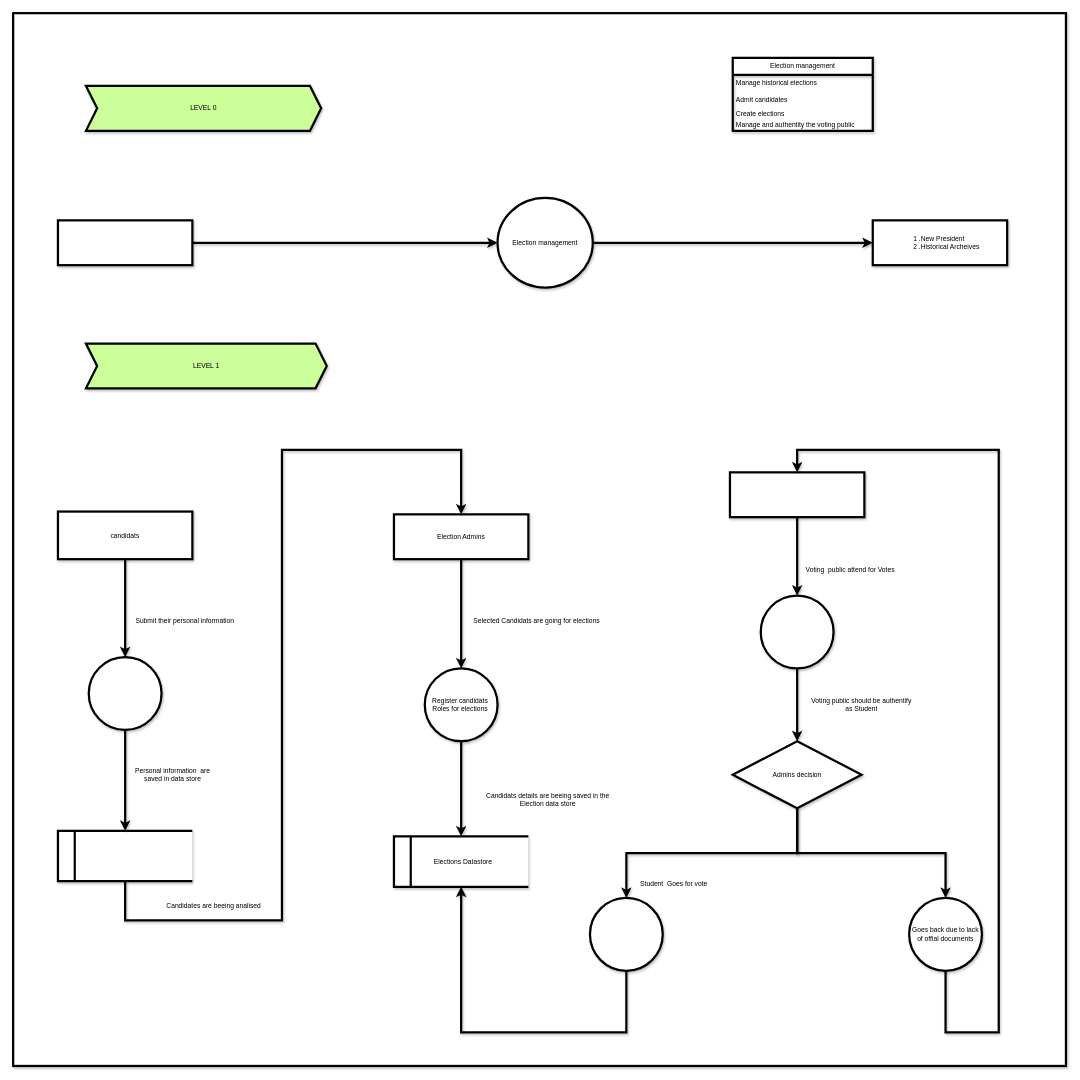
Some shapes in this 1080 by 1080 pixel diagram are drawn without their labels. Here are the shapes that lost their labels. From the top down, the centre of each, then its label:
the point at 125,243: Electoral Commution
the point at 797,495: Voting public
the point at 797,632: The voting public authentication
the point at 125,694: Candidats submit personal information
the point at 125,856: Candidatures data store
the point at 626,935: Attend elections and vote
